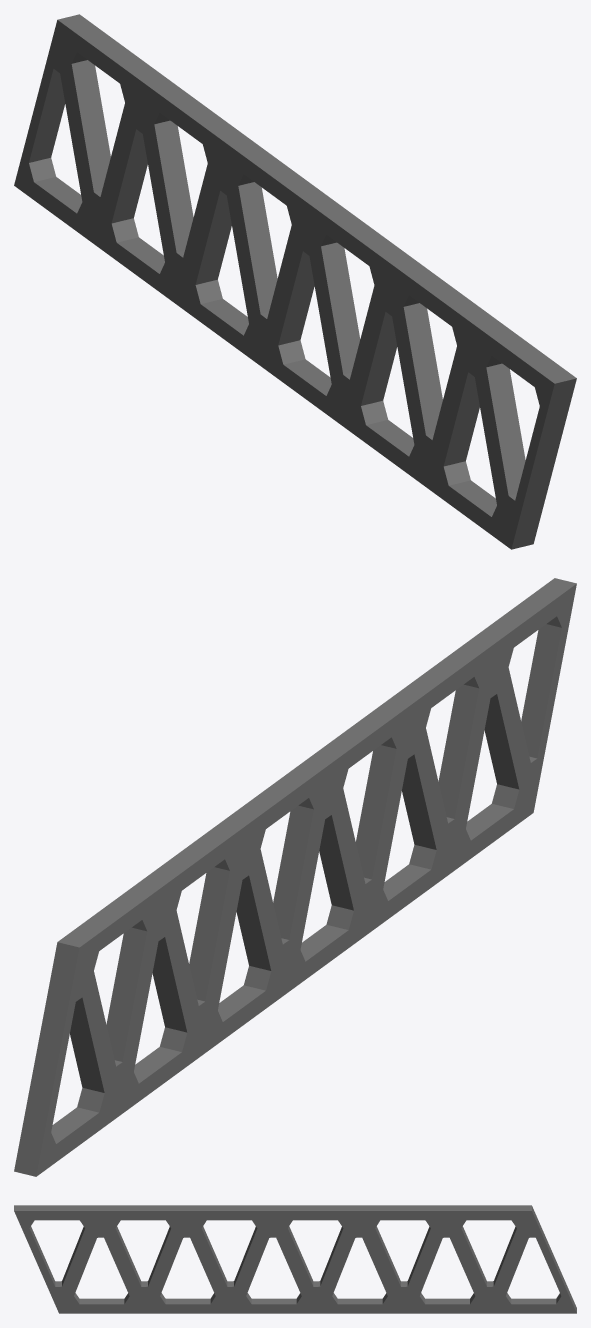
File: metalsupport.glb
The picture shows the model from 3 angles, top to bottom: view 1: azimuth 30°, elevation 25°; view 2: azimuth 150°, elevation 25°; view 3: azimuth 270°, elevation 25°; orthographic projection. The views are drawn at different scales.
Visible parts, largest first — view 1: MetalSupport; view 2: MetalSupport; view 3: MetalSupport.
Boxes of the visible parts, left/top/right/bottom form: MetalSupport: left=14, top=14, right=576, bottom=549; MetalSupport: left=14, top=578, right=576, bottom=1176; MetalSupport: left=14, top=1205, right=576, bottom=1313.
Bounding box in the file's own units: 0.1415 × 1.2 × 5.95.
Materials: 1 (1 with a texture image).
